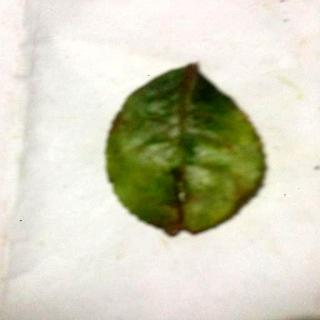Red Leaf Spot: (106, 64, 264, 236)
